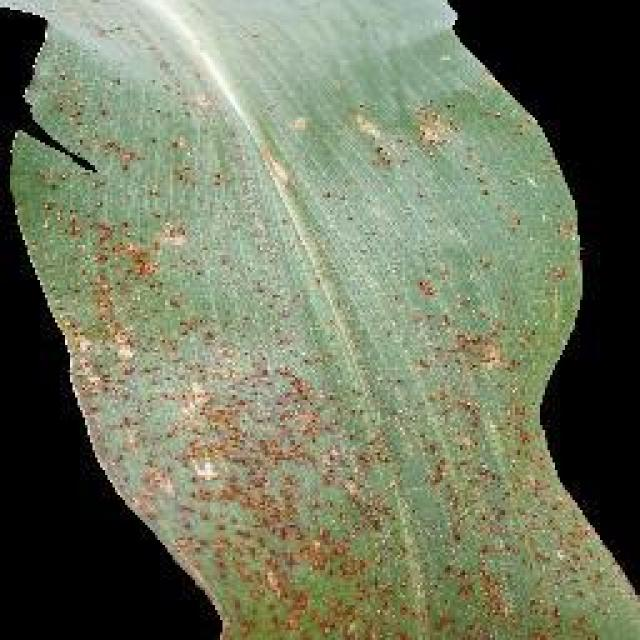Corn Common Rust: (71, 67, 556, 593)
